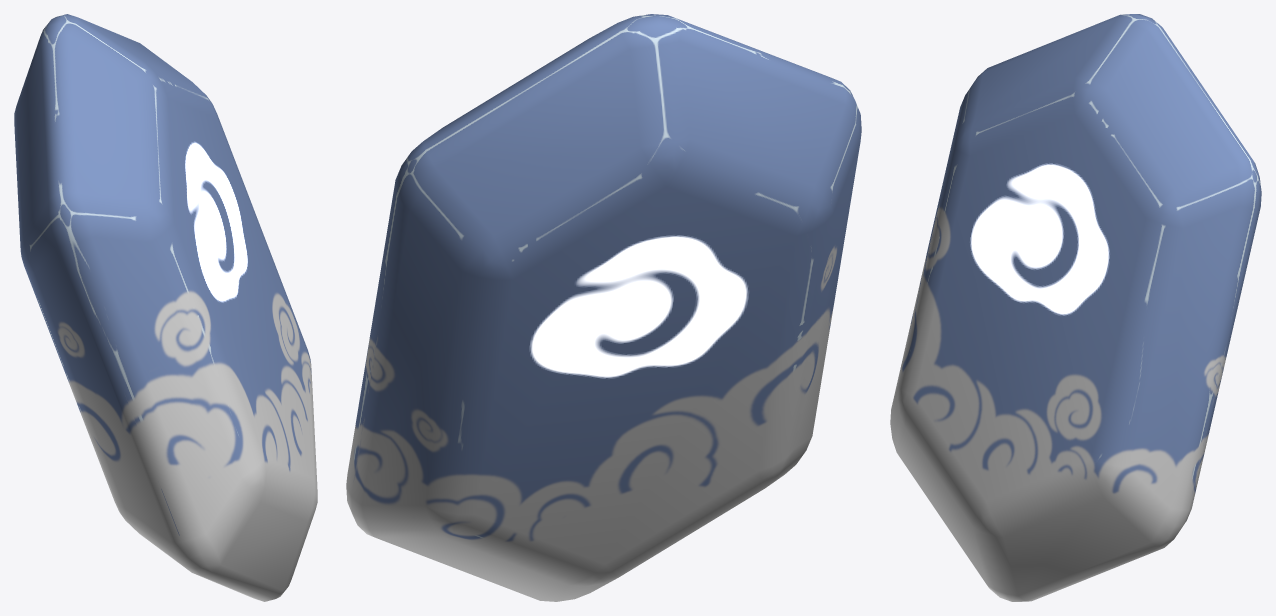
The model's file is rubis_piaf_2.glb.
3 views of the same model, side by side, from view 1: azimuth 30°, elevation 25°; view 2: azimuth 150°, elevation 25°; view 3: azimuth 270°, elevation 25° (orthographic). The views are drawn at different scales.
Parts seen in each view (by area): view 1: Rubis_Piafs_9; view 2: Rubis_Piafs_9; view 3: Rubis_Piafs_9.
Boxes of the visible parts, left/top/right/bottom form: Rubis_Piafs_9: left=14, top=14, right=317, bottom=601; Rubis_Piafs_9: left=346, top=14, right=861, bottom=601; Rubis_Piafs_9: left=890, top=14, right=1261, bottom=601.
Size of the model in its own units: 0.2369 by 0.3925 by 0.2541.
1 material, 1 textured.
